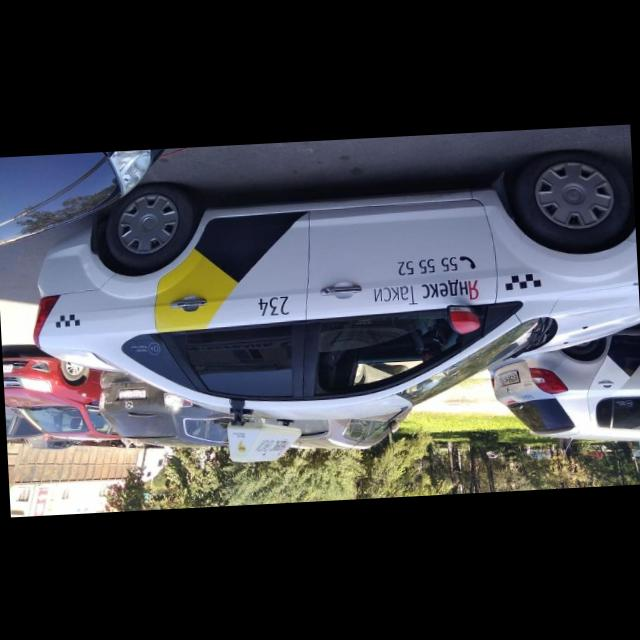taxi: (25, 148, 640, 466)
